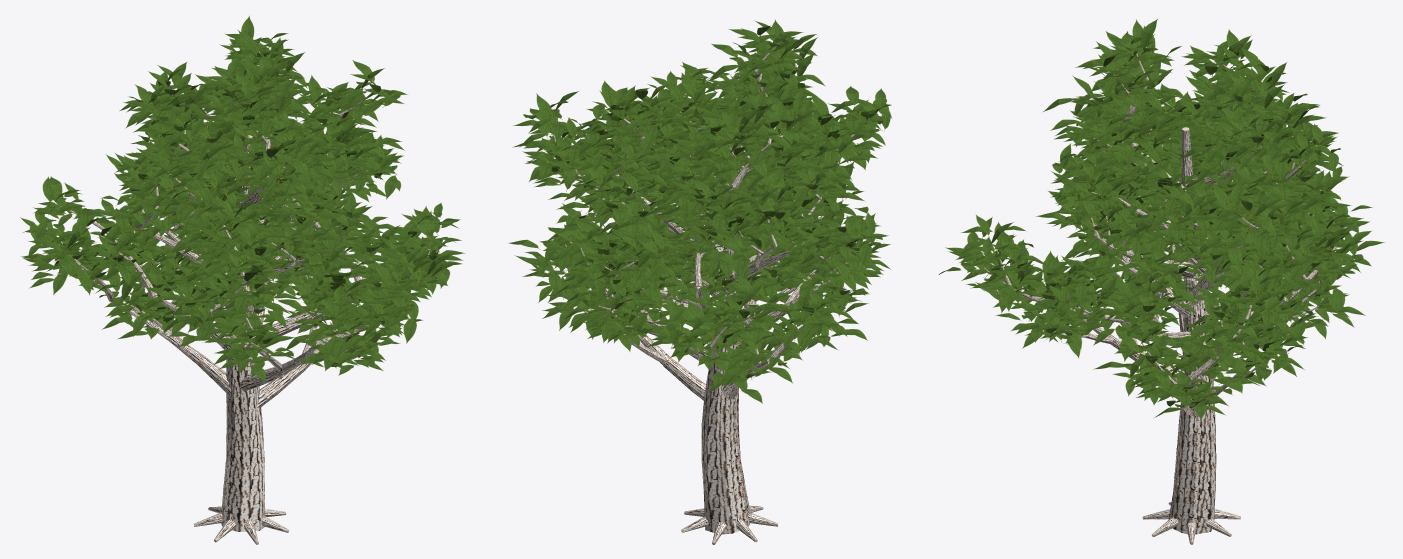
Rendered from elm_field.glb.
The picture shows the model from 3 angles, left to right: view 1: azimuth 30°, elevation 25°; view 2: azimuth 150°, elevation 25°; view 3: azimuth 270°, elevation 25°; orthographic projection.
Parts seen in each view (by area): view 1: Curved individual leaves, Branching trunk and exposed roots; view 2: Curved individual leaves, Branching trunk and exposed roots; view 3: Curved individual leaves, Branching trunk and exposed roots.
Part boxes in pixels (x1=…): Curved individual leaves: x1=20, y1=16, x2=465, y2=383; Branching trunk and exposed roots: x1=60, y1=51, x2=430, y2=544; Curved individual leaves: x1=509, y1=19, x2=892, y2=403; Branching trunk and exposed roots: x1=553, y1=46, x2=869, y2=544; Curved individual leaves: x1=939, y1=19, x2=1384, y2=419; Branching trunk and exposed roots: x1=983, y1=53, x2=1340, y2=544.
Bounding box in the file's own units: 11.58 × 13.14 × 11.07.
Materials: 2 (2 with a texture image).
